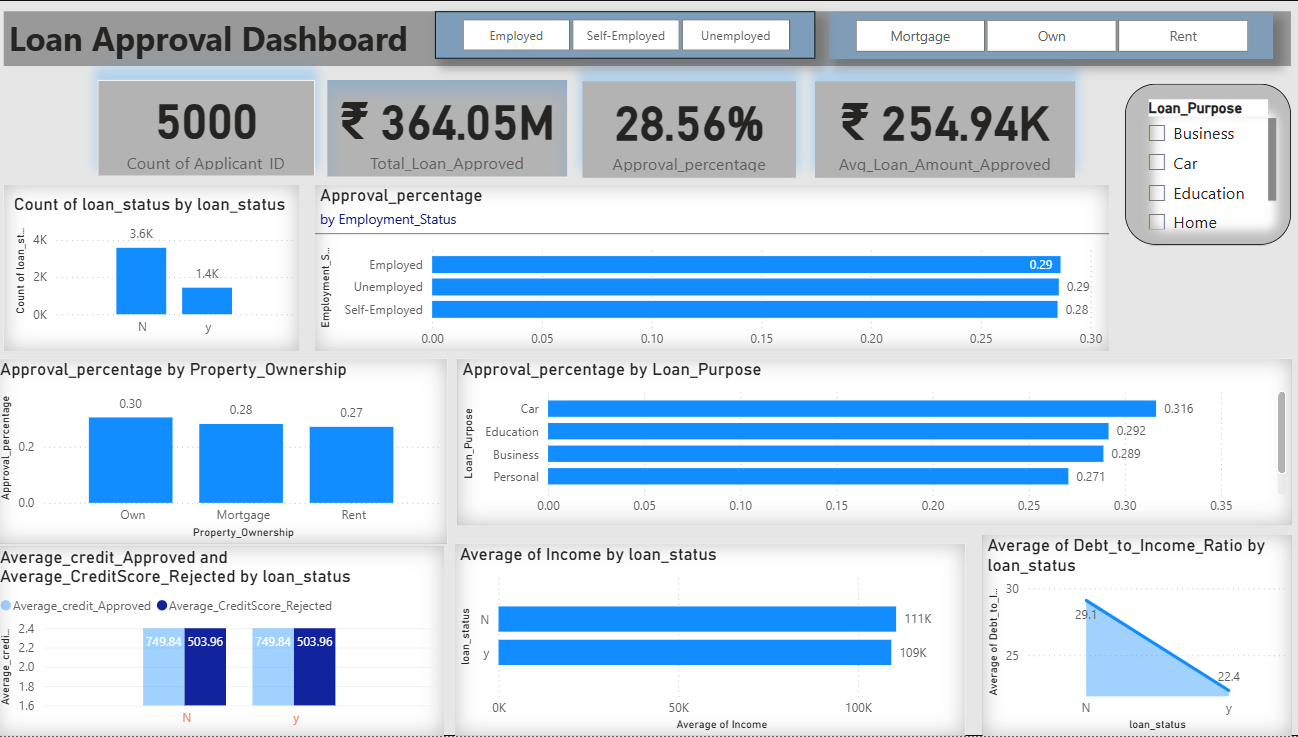

What the dashboard file says about the page in this screenshot:
{"tool":"powerbi","page":{"name":"Page 1","canvas":[1280,720],"ordinal":5},"visuals":[{"type":"textbox","box":[8.6,11,1259.5,53.8],"z":0},{"type":"card","fields":{"Values":["CountNonNull(loan_approval_dataset.Applicant_ID)"]},"box":[100.3,78.3,212.8,94.2],"z":1000},{"type":"card","fields":{"Values":["loan_approval_dataset.Total_Loan_Approved"]},"box":[325.3,78.3,234.8,94.2],"z":2000},{"type":"card","fields":{"Values":["loan_approval_dataset.Approval_percentage"]},"box":[574.7,79.5,209.1,94.2],"z":3000},{"type":"card","fields":{"Values":["loan_approval_dataset.Avg_Loan_Amount_Approved"]},"box":[802.2,79.5,254.3,94.2],"z":4000},{"type":"clusteredColumnChart","fields":{"Y":["CountNonNull(loan_approval_dataset.loan_status)"],"Category":["loan_approval_dataset.loan_status"]},"box":[8.6,181,288.6,162.6],"z":5000},{"type":"clusteredBarChart","fields":{"Y":["loan_approval_dataset.Approval_percentage"],"Category":["loan_approval_dataset.Employment_Status"]},"box":[313,181,776.5,162.6],"z":6000},{"type":"clusteredColumnChart","fields":{"Category":["loan_approval_dataset.Property_Ownership"],"Y":["loan_approval_dataset.Approval_percentage"]},"box":[0,351,442.7,181],"z":7000},{"type":"clusteredBarChart","fields":{"Category":["loan_approval_dataset.Loan_Purpose"],"Y":["loan_approval_dataset.Approval_percentage"]},"box":[452.4,351,815.6,162.6],"z":8000},{"type":"clusteredColumnChart","fields":{"Category":["loan_approval_dataset.loan_status"],"Y":["loan_approval_dataset.Average_credit_Approved","loan_approval_dataset.Approval_Rate_Employmenyt"]},"box":[0,534.4,439,185.9],"z":9000},{"type":"clusteredBarChart","fields":{"Category":["loan_approval_dataset.loan_status"],"Y":["Avg(loan_approval_dataset.Income)"]},"box":[450,531.9,498.9,188.3],"z":10000},{"type":"lineChart","fields":{"Category":["loan_approval_dataset.loan_status"],"Y":["Avg(loan_approval_dataset.Debt_to_Income_Ratio)"]},"box":[966,523.4,302,196.9],"z":11000},{"type":"slicer","fields":{"Values":["loan_approval_dataset.Employment_Status"]},"box":[430.4,11,371.7,46.5],"z":12000},{"type":"slicer","fields":{"Values":["loan_approval_dataset.Property_Ownership"]},"box":[815.6,12.2,434.1,45.2],"z":13000},{"type":"slicer","fields":{"Values":["loan_approval_dataset.Loan_Purpose"]},"box":[1105.4,81.9,162.6,157.7],"z":14000}]}

Visuals, with their boxes in screenshot pixels (x1, y1, x2, y2), scaled from the page's 1280x720 canvas onto the 1298x737 screenshot:
textbox: <region>9, 11, 1286, 66</region>
card - CountNonNull(loan_approval_dataset.Applicant_ID): <region>102, 80, 318, 177</region>
card - loan_approval_dataset.Total_Loan_Approved: <region>330, 80, 568, 177</region>
card - loan_approval_dataset.Approval_percentage: <region>583, 81, 795, 178</region>
card - loan_approval_dataset.Avg_Loan_Amount_Approved: <region>813, 81, 1071, 178</region>
clusteredColumnChart - CountNonNull(loan_approval_dataset.loan_status) x loan_approval_dataset.loan_status: <region>9, 185, 301, 352</region>
clusteredBarChart - loan_approval_dataset.Approval_percentage x loan_approval_dataset.Employment_Status: <region>317, 185, 1105, 352</region>
clusteredColumnChart - loan_approval_dataset.Property_Ownership x loan_approval_dataset.Approval_percentage: <region>0, 359, 449, 545</region>
clusteredBarChart - loan_approval_dataset.Loan_Purpose x loan_approval_dataset.Approval_percentage: <region>459, 359, 1286, 526</region>
clusteredColumnChart - loan_approval_dataset.loan_status x loan_approval_dataset.Average_credit_Approved: <region>0, 547, 445, 736</region>
clusteredBarChart - loan_approval_dataset.loan_status x Avg(loan_approval_dataset.Income): <region>456, 544, 962, 736</region>
lineChart - loan_approval_dataset.loan_status x Avg(loan_approval_dataset.Debt_to_Income_Ratio): <region>980, 536, 1286, 736</region>
slicer - loan_approval_dataset.Employment_Status: <region>436, 11, 813, 59</region>
slicer - loan_approval_dataset.Property_Ownership: <region>827, 12, 1267, 59</region>
slicer - loan_approval_dataset.Loan_Purpose: <region>1121, 84, 1286, 245</region>
